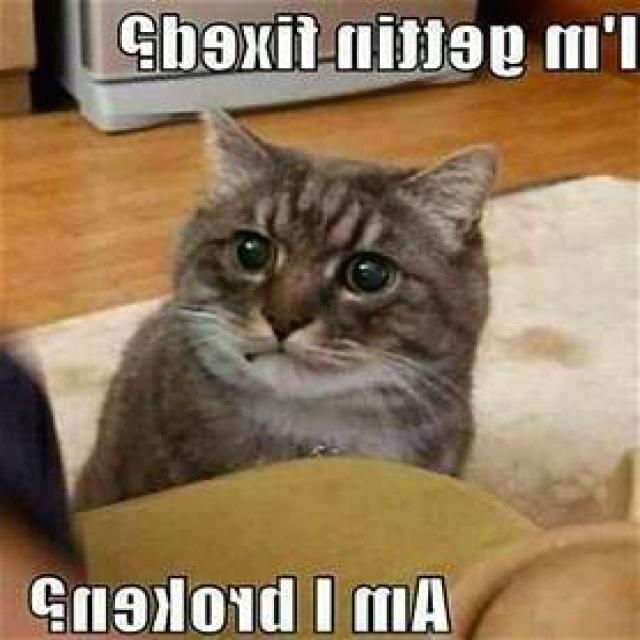KEDI: (71, 101, 501, 507)
